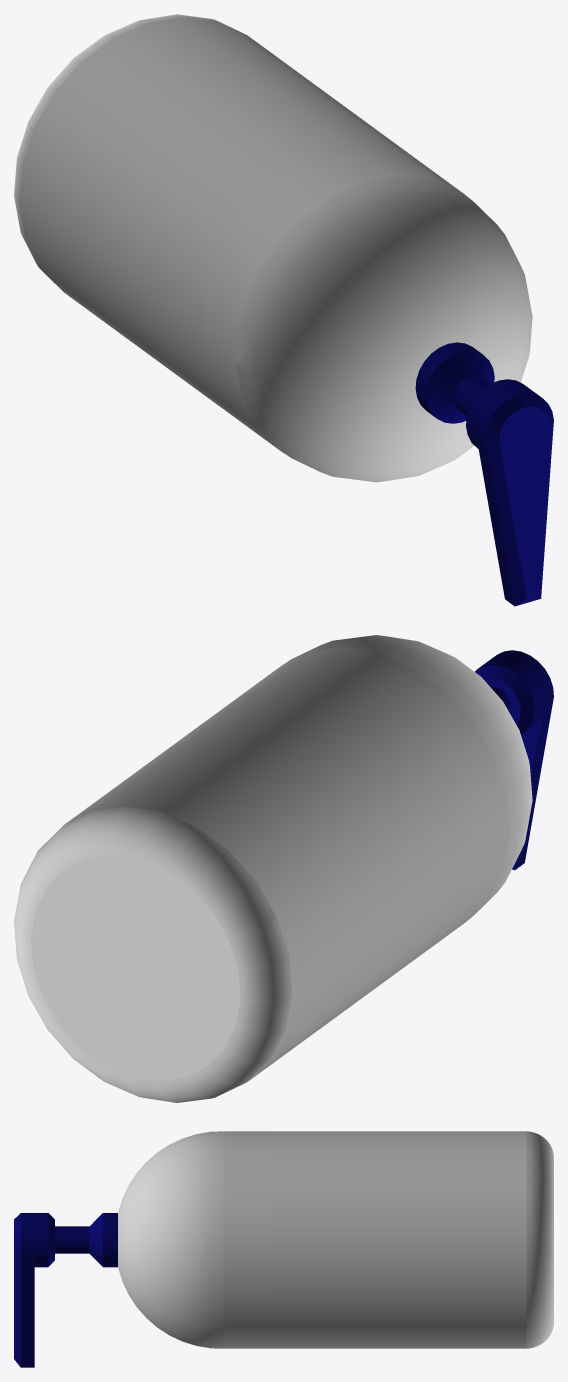
File: model_align.obj
The picture shows the model from 3 angles, top to bottom: view 1: azimuth 30°, elevation 25°; view 2: azimuth 150°, elevation 25°; view 3: azimuth 270°, elevation 25°; orthographic projection. The views are drawn at different scales.
Visible parts, largest first — view 1: mesh1_mesh1-geometry, mesh2_mesh2-geometry, mesh3_mesh3-geometry; view 2: mesh1_mesh1-geometry, mesh2_mesh2-geometry; view 3: mesh1_mesh1-geometry, mesh2_mesh2-geometry, mesh3_mesh3-geometry.
Boxes of the visible parts, x1,y1,x2,y2 form: mesh1_mesh1-geometry: (14, 14, 532, 482); mesh2_mesh2-geometry: (466, 379, 553, 606); mesh3_mesh3-geometry: (453, 376, 489, 415); mesh1_mesh1-geometry: (14, 635, 532, 1102); mesh2_mesh2-geometry: (475, 650, 553, 870); mesh1_mesh1-geometry: (89, 1131, 553, 1348); mesh2_mesh2-geometry: (14, 1213, 54, 1367); mesh3_mesh3-geometry: (55, 1226, 89, 1253).
Size of the model in its own units: 0.0644 by 0.0716 by 0.1589.
